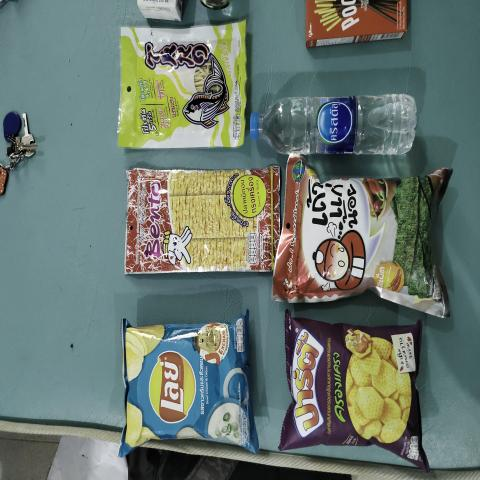bento_red: (131, 173, 273, 266)
crystal: (250, 94, 420, 158)
lay_blue: (131, 336, 241, 436)
party_purple: (296, 341, 414, 434)
taokaenoi: (288, 178, 432, 296)
taro_yellow: (132, 35, 240, 136)
